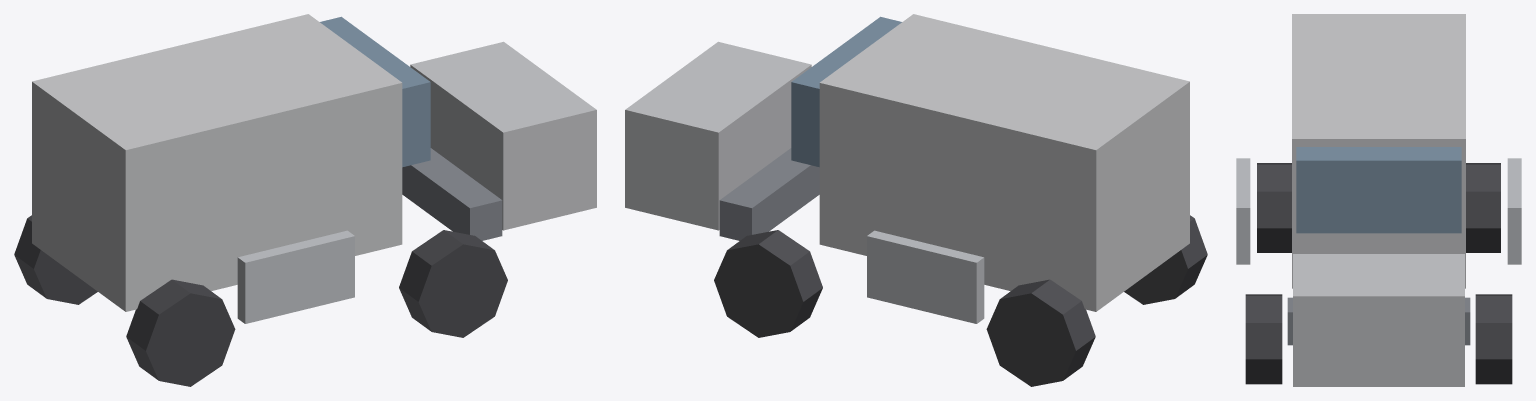
The picture shows the model from 3 angles, left to right: view 1: azimuth 30°, elevation 25°; view 2: azimuth 150°, elevation 25°; view 3: azimuth 270°, elevation 25°; orthographic projection. The views are drawn at different scales.
Parts seen in each view (by area): view 1: part0, part1, part7, part9, part4, part5, part2, part8; view 2: part0, part1, part6, part8, part3, part5, part2, part9; view 3: part0, part1, part2, part6, part7, part8, part9, part3, part4, part5.
Part boxes in pixels (x1,y1,x2,y2): part0: (32,14,402,311); part1: (410,41,596,230); part7: (399,230,507,337); part9: (126,279,235,386); part4: (237,230,354,323); part5: (402,148,502,240); part2: (320,16,430,167); part8: (14,215,97,304); part0: (819,14,1189,311); part1: (625,41,811,230); part6: (714,230,822,337); part8: (986,279,1095,386); part3: (867,230,984,323); part5: (719,148,819,240); part2: (791,16,901,167); part9: (1124,215,1207,304); part0: (1292,14,1465,288); part1: (1293,254,1464,386); part2: (1296,147,1461,233); part6: (1475,294,1512,384); part7: (1245,294,1282,384); part8: (1466,163,1500,252); part9: (1257,163,1291,252); part3: (1507,158,1521,264); part4: (1236,158,1250,264); part5: (1287,297,1470,345).
Size of the model in its own units: 5.79 by 2.89 by 3.28.
